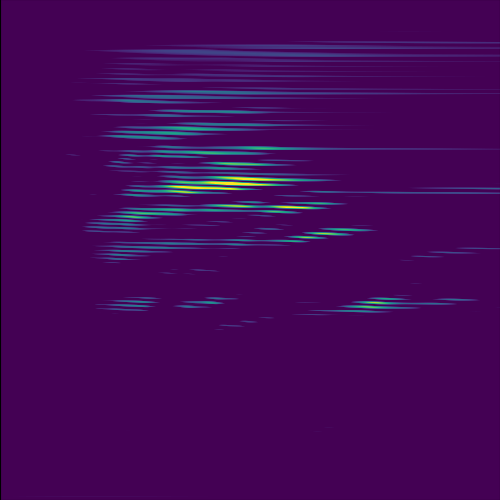semblance: (157, 171, 302, 197), (291, 223, 370, 244), (263, 197, 333, 216)
